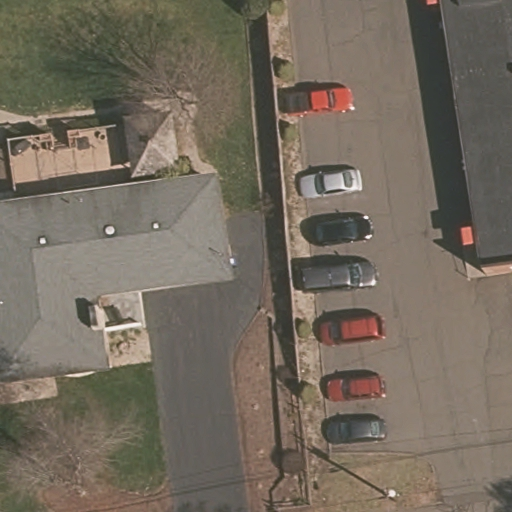DT: (373, 478, 411, 511)
